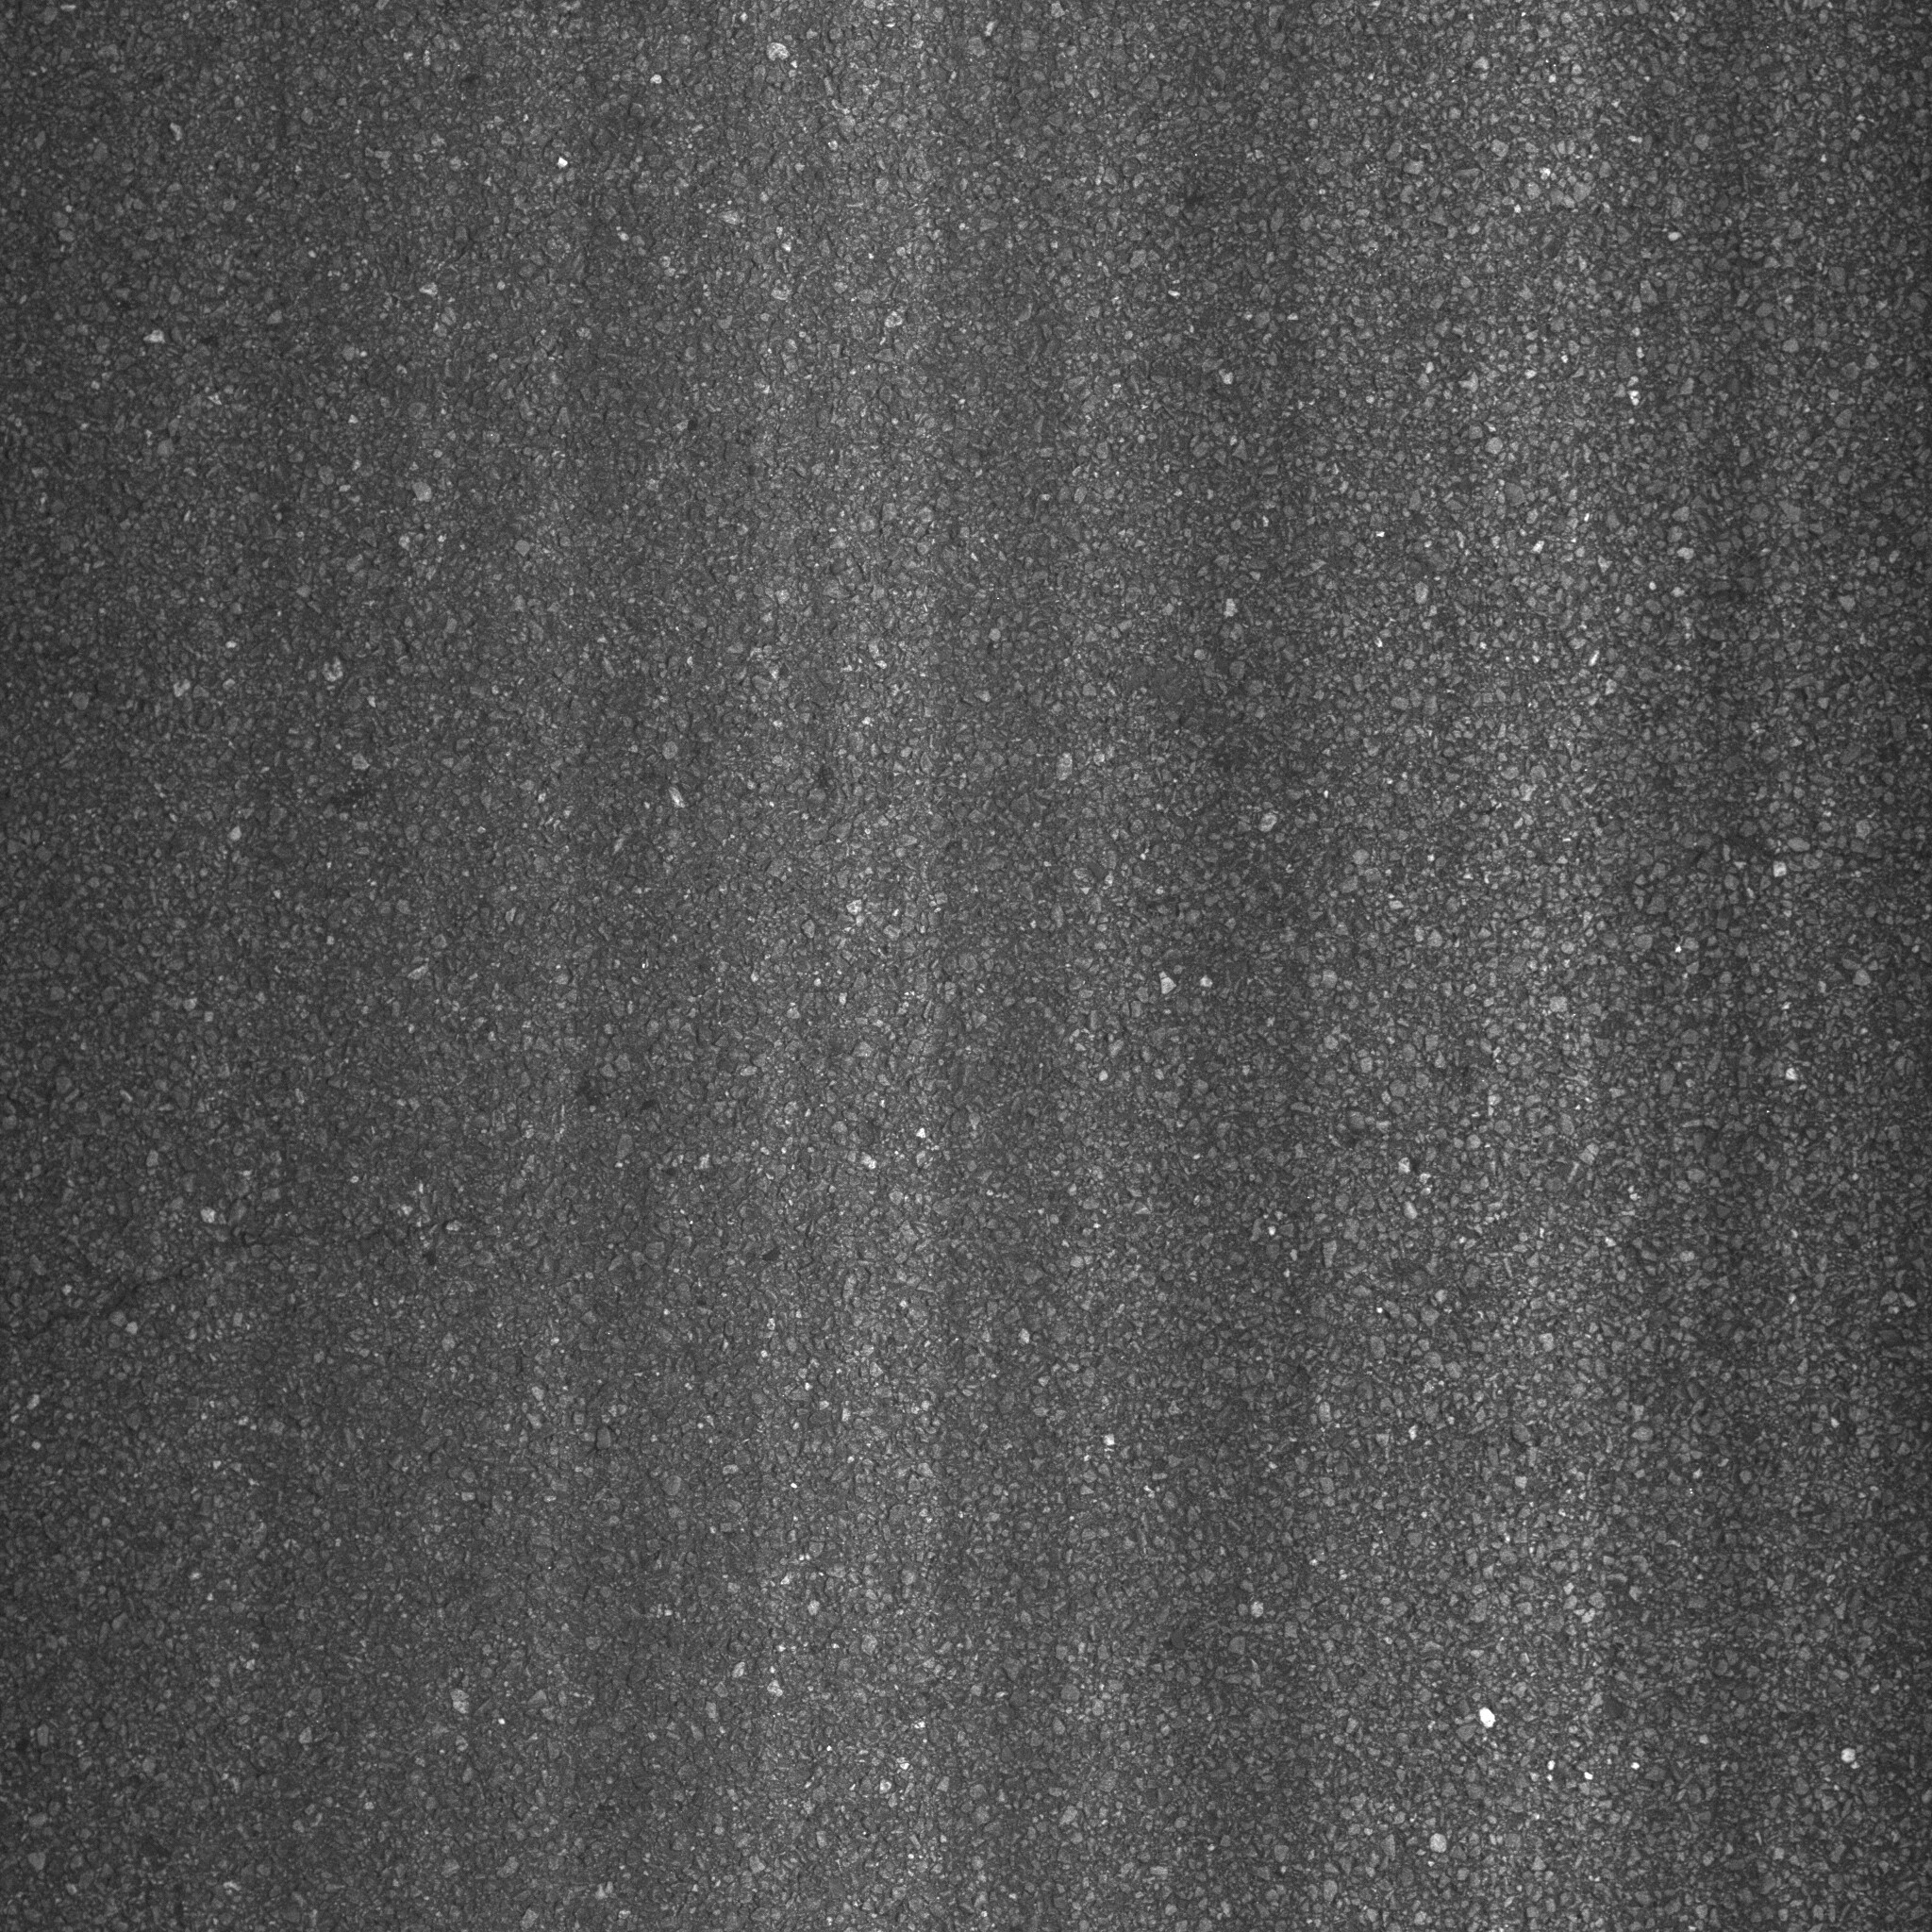transverse: (2, 1159, 640, 1447)
